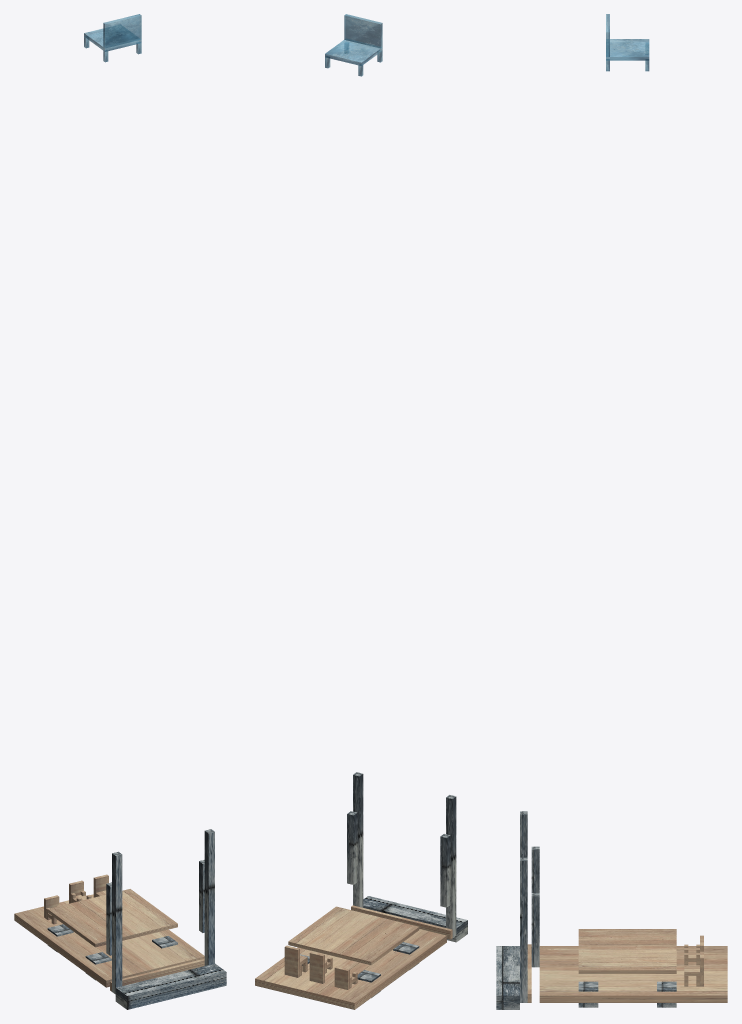
File: WallAnime.glb
3 views of the same model, side by side, from view 1: azimuth 30°, elevation 25°; view 2: azimuth 150°, elevation 25°; view 3: azimuth 270°, elevation 25° (orthographic). The views are drawn at different scales.
Parts seen in each view (by area): view 1: Cube.017, Cube.022, Cube, Cube.006, Cube.007, Cube.027, Cube.028, Cube.003; view 2: Cube.017, Cube.022, Cube, Cube.006, Cube.007, Cube.027, Cube.028, Cube.001, Cube.002, Cube.003; view 3: Cube.017, Cube.022, Cube, Cube.007, Cube.028, Cube.002.
Boxes of the visible parts, x1,y1,x2,y2 form: Cube.017: [14, 894, 204, 987]; Cube.022: [47, 889, 177, 947]; Cube: [115, 963, 226, 1009]; Cube.006: [112, 851, 122, 994]; Cube.007: [204, 829, 214, 965]; Cube.027: [103, 14, 141, 48]; Cube.028: [84, 25, 141, 51]; Cube.003: [110, 959, 204, 991]; Cube.017: [255, 929, 446, 1009]; Cube.022: [288, 906, 419, 965]; Cube: [363, 896, 467, 942]; Cube.006: [446, 795, 456, 937]; Cube.007: [353, 772, 363, 907]; Cube.027: [344, 14, 382, 48]; Cube.028: [325, 38, 382, 65]; Cube.001: [440, 834, 450, 907]; Cube.002: [347, 811, 357, 884]; Cube.003: [351, 905, 452, 939]; Cube.017: [539, 946, 727, 1002]; Cube.022: [578, 929, 676, 973]; Cube: [496, 946, 519, 1009]; Cube.007: [520, 857, 527, 1002]; Cube.028: [606, 39, 649, 60]; Cube.002: [531, 893, 539, 967].
Bounding box in the file's own units: 6 × 54.3 × 11.8.
3 materials, 3 textured.
